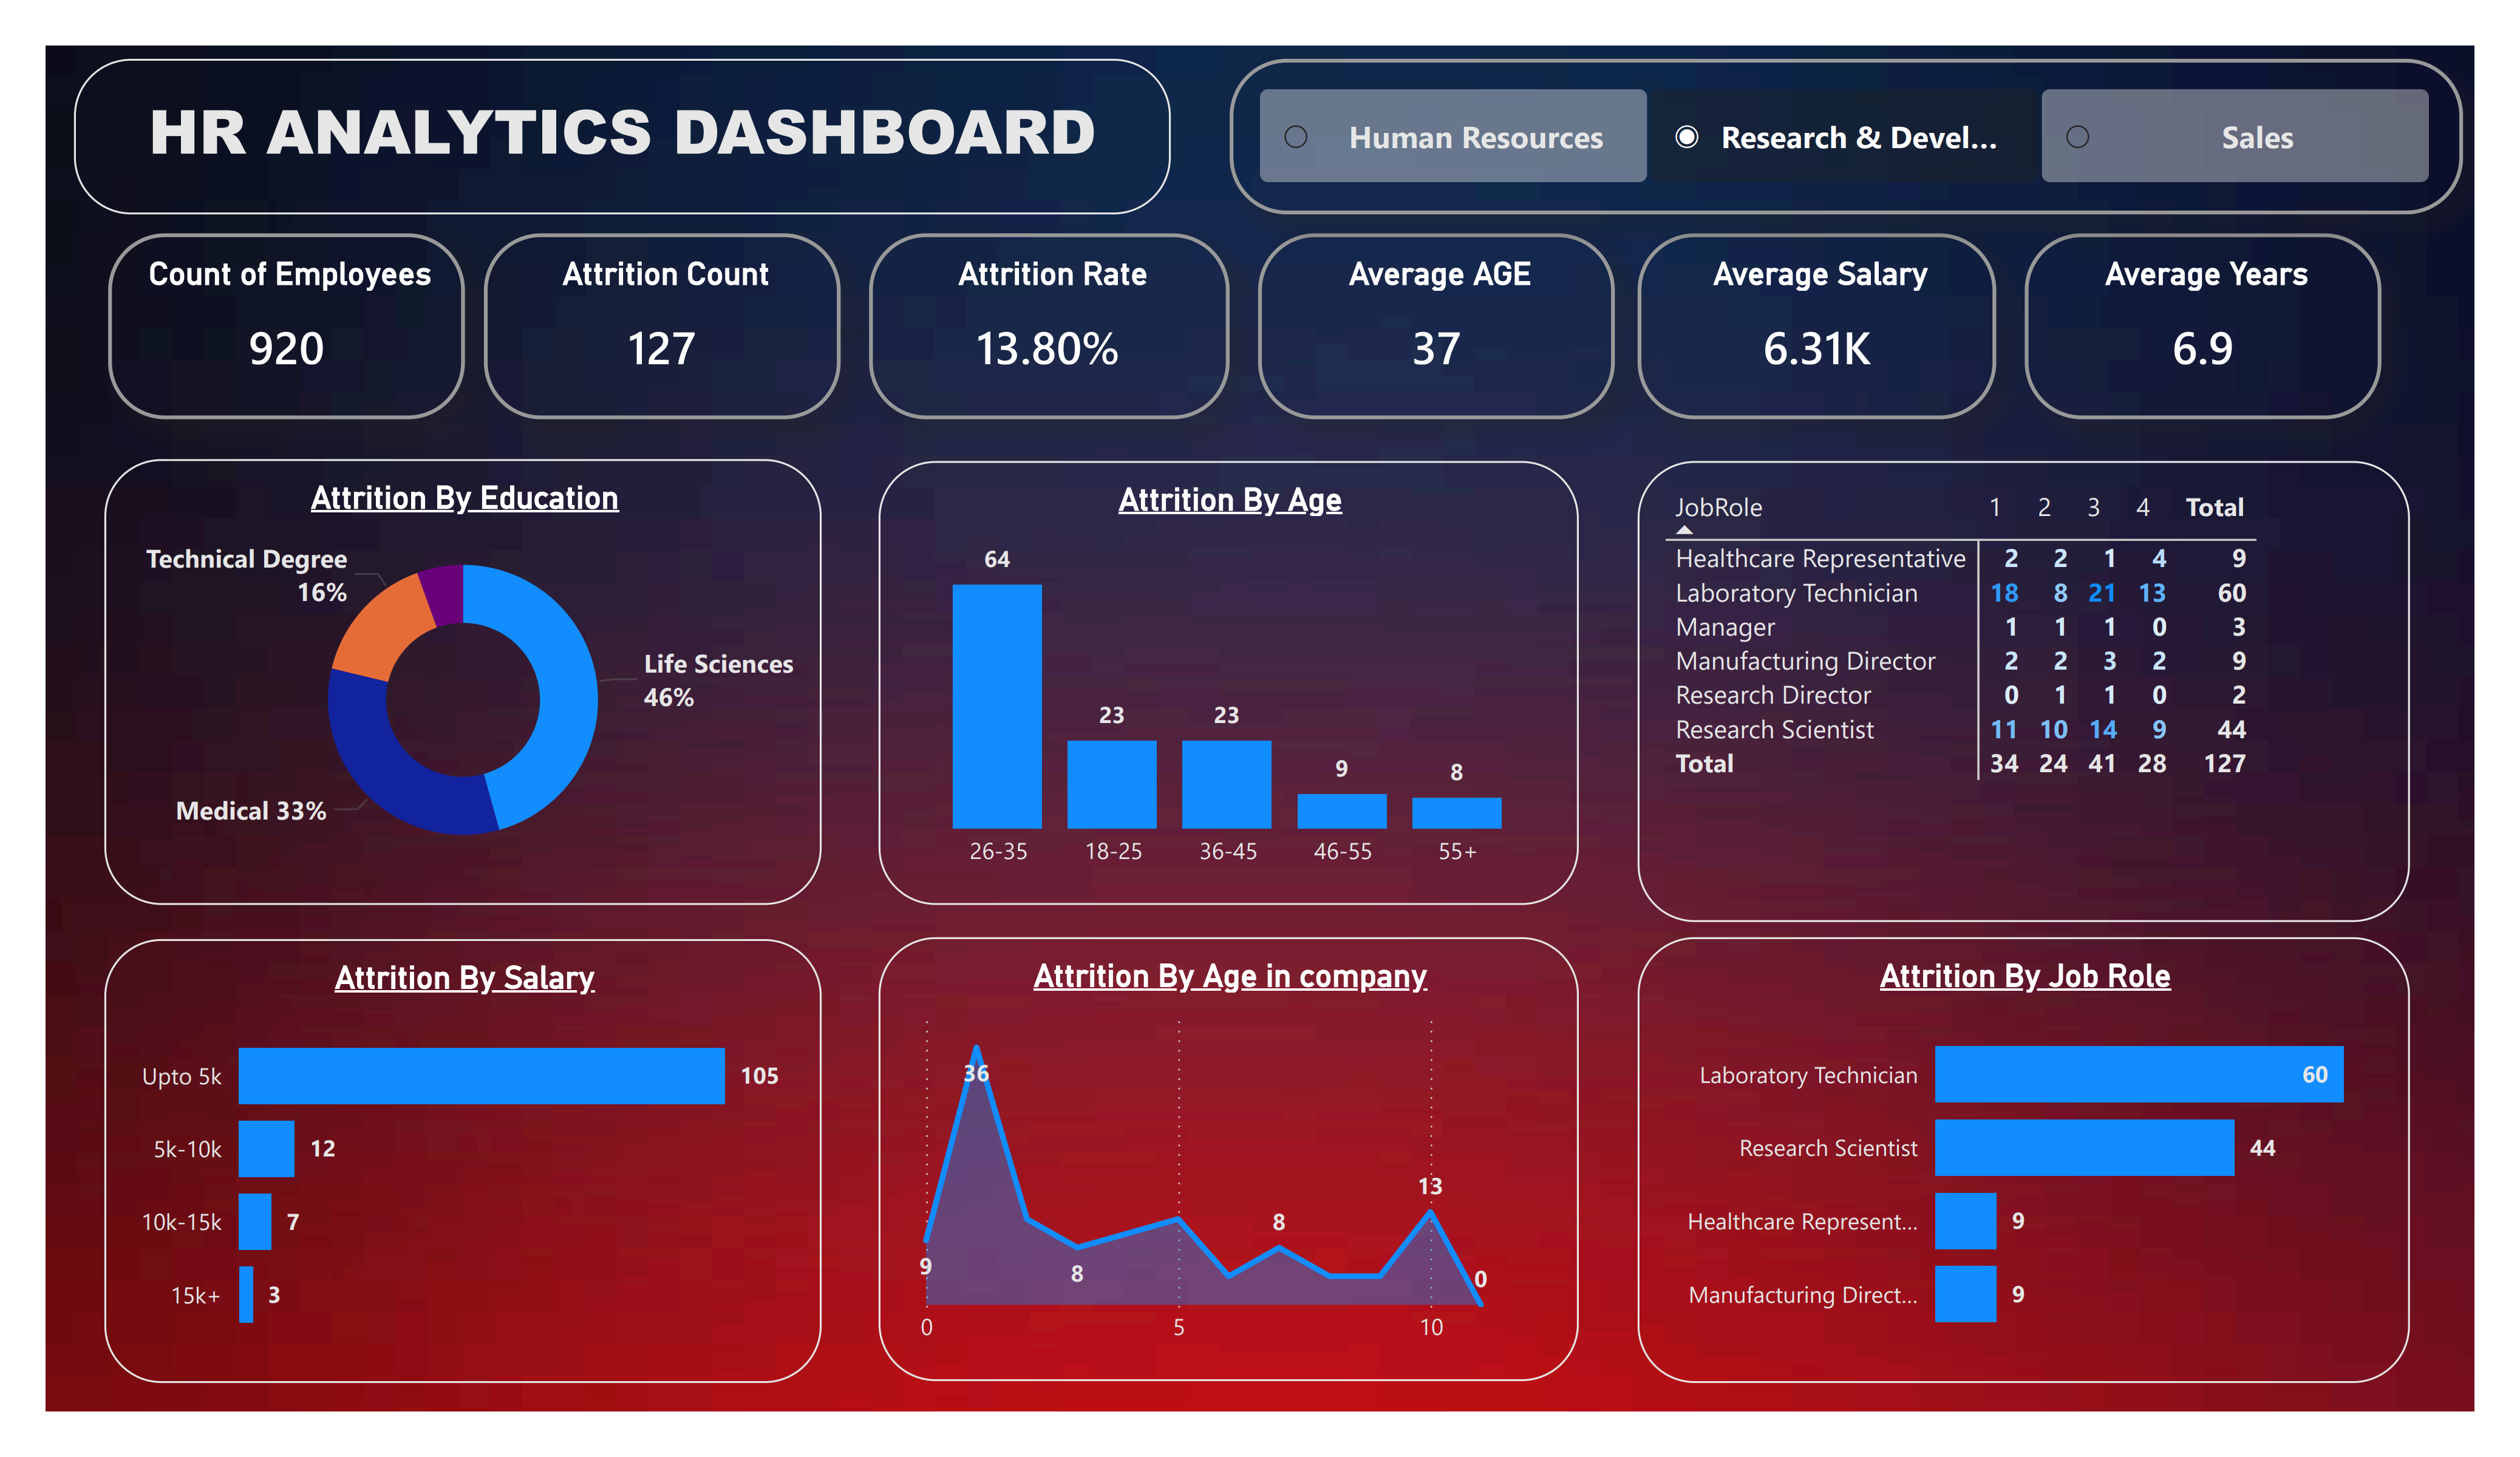

Layout of this report page (visuals, bound fields, positions):
{"tool":"powerbi","page":{"name":"Page 1","canvas":[1280,720],"ordinal":0},"visuals":[{"type":"cardVisual","title":"Count of Employees","fields":{"Data":["Sum(HR_Analytics.EmployeeCount)"]},"box":[32.6,99.3,188.2,97.8],"z":0},{"type":"cardVisual","title":"Attrition Count","fields":{"Data":["Sum(HR_Analytics.AttritionCount)"]},"box":[231.2,99.3,188.2,97.8],"z":1000},{"type":"cardVisual","title":"Attrition Rate","fields":{"Data":["HR_Analytics.AttritionRate"]},"box":[434.2,99.3,189.7,97.8],"z":2000},{"type":"cardVisual","title":"Average AGE","fields":{"Data":["Avg(HR_Analytics.Age)"]},"box":[638.7,99.3,188.2,97.8],"z":3000},{"type":"cardVisual","title":"Average Years","fields":{"Data":["Avg(HR_Analytics.YearsAtCompany)"]},"box":[1043.2,99.3,188.2,97.8],"z":4000},{"type":"cardVisual","title":"Average Salary","fields":{"Data":["Avg(HR_Analytics.MonthlyIncome)"]},"box":[838.7,99.3,189.7,97.8],"z":5000},{"type":"donutChart","title":"Attrition By Education","fields":{"Category":["HR_Analytics.EducationField"],"Y":["Sum(HR_Analytics.AttritionCount)"]},"box":[31.1,217.8,377.9,235.6],"z":6000},{"type":"columnChart","title":"Attrition By Age","fields":{"Y":["Sum(HR_Analytics.AttritionCount)"],"Category":["HR_Analytics.AgeGroup"]},"box":[438.6,219.3,369,234.1],"z":7000},{"type":"pivotTable","fields":{"Rows":["HR_Analytics.JobRole"],"Columns":["HR_Analytics.JobSatisfaction"],"Values":["Sum(HR_Analytics.AttritionCount)"]},"box":[838.7,219.3,407.5,243],"z":8000},{"type":"barChart","title":"Attrition By Salary","fields":{"Category":["HR_Analytics.SalarySlab"],"Y":["Sum(HR_Analytics.AttritionCount)"]},"box":[31.1,471.2,377.9,234.1],"z":9000},{"type":"barChart","title":"Attrition By Job Role","fields":{"Category":["HR_Analytics.JobRole"],"Y":["Sum(HR_Analytics.AttritionCount)"]},"box":[838.7,469.7,407.5,235.6],"z":10000},{"type":"areaChart","title":"Attrition By Age in company","fields":{"Category":["HR_Analytics.YearsAtCompany"],"Y":["Sum(HR_Analytics.AttritionCount)"]},"box":[438.6,469.7,369,234.1],"z":11000},{"type":"advancedSlicerVisual","fields":{"Values":["HR_Analytics.Department"]},"box":[623.9,7.4,650.5,81.5],"z":12000},{"type":"textbox","box":[14.8,7.4,577.9,81.5],"z":13000}]}

Visuals, with their boxes in screenshot pixels (x1, y1, x2, y2):
"Count of Employees" cardVisual: bbox(109, 226, 475, 415)
"Attrition Count" cardVisual: bbox(495, 226, 860, 415)
"Attrition Rate" cardVisual: bbox(889, 226, 1257, 415)
"Average AGE" cardVisual: bbox(1286, 226, 1652, 415)
"Average Years" cardVisual: bbox(2071, 226, 2437, 415)
"Average Salary" cardVisual: bbox(1674, 226, 2043, 415)
"Attrition By Education" donutChart: bbox(106, 455, 840, 913)
"Attrition By Age" columnChart: bbox(897, 458, 1614, 913)
pivotTable - HR_Analytics.JobRole x HR_Analytics.JobSatisfaction: bbox(1674, 458, 2465, 930)
"Attrition By Salary" barChart: bbox(106, 948, 840, 1402)
"Attrition By Job Role" barChart: bbox(1674, 945, 2465, 1402)
"Attrition By Age in company" areaChart: bbox(897, 945, 1614, 1399)
advancedSlicerVisual - HR_Analytics.Department: bbox(1257, 47, 2519, 205)
textbox: bbox(75, 47, 1197, 205)
